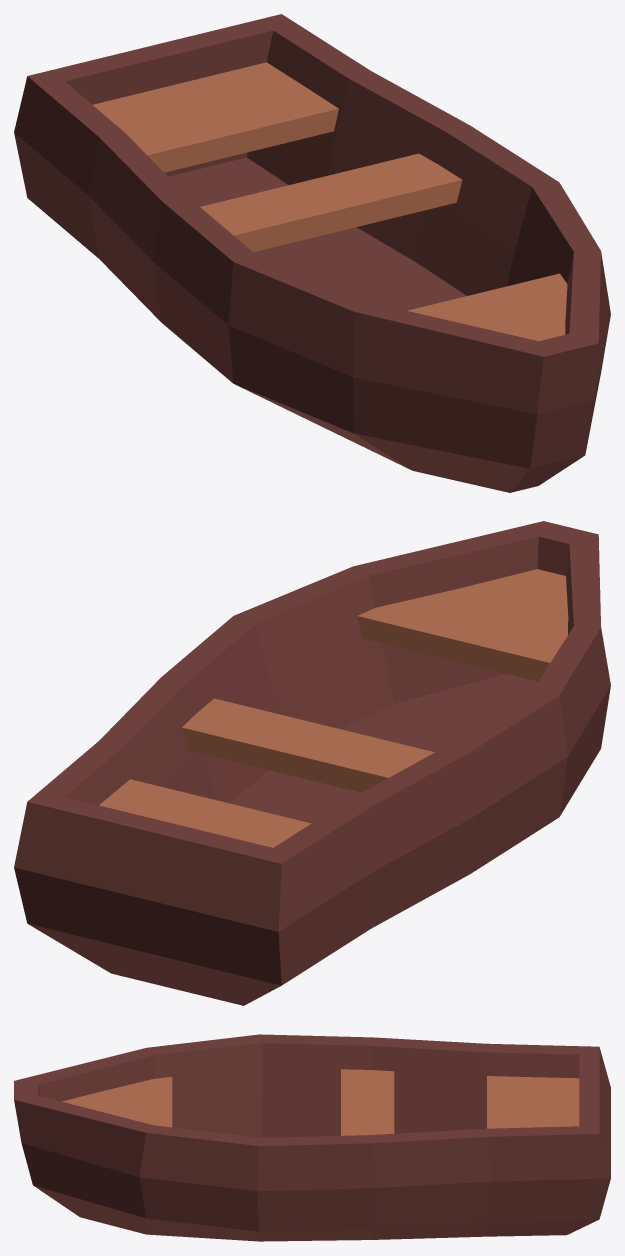
Rendered from Boat.fbx.
3 renders of one model, top to bottom at view 1: azimuth 30°, elevation 25°; view 2: azimuth 150°, elevation 25°; view 3: azimuth 270°, elevation 25°, orthographic. The views are drawn at different scales.
Visible parts, largest first — view 1: Cube; view 2: Cube; view 3: Cube.
Part boxes in pixels (x1,y1,x2,y2): Cube: (14,14,610,492); Cube: (14,521,610,1005); Cube: (14,1034,610,1241).
Bounding box in the file's own units: 291 × 143 × 632.
